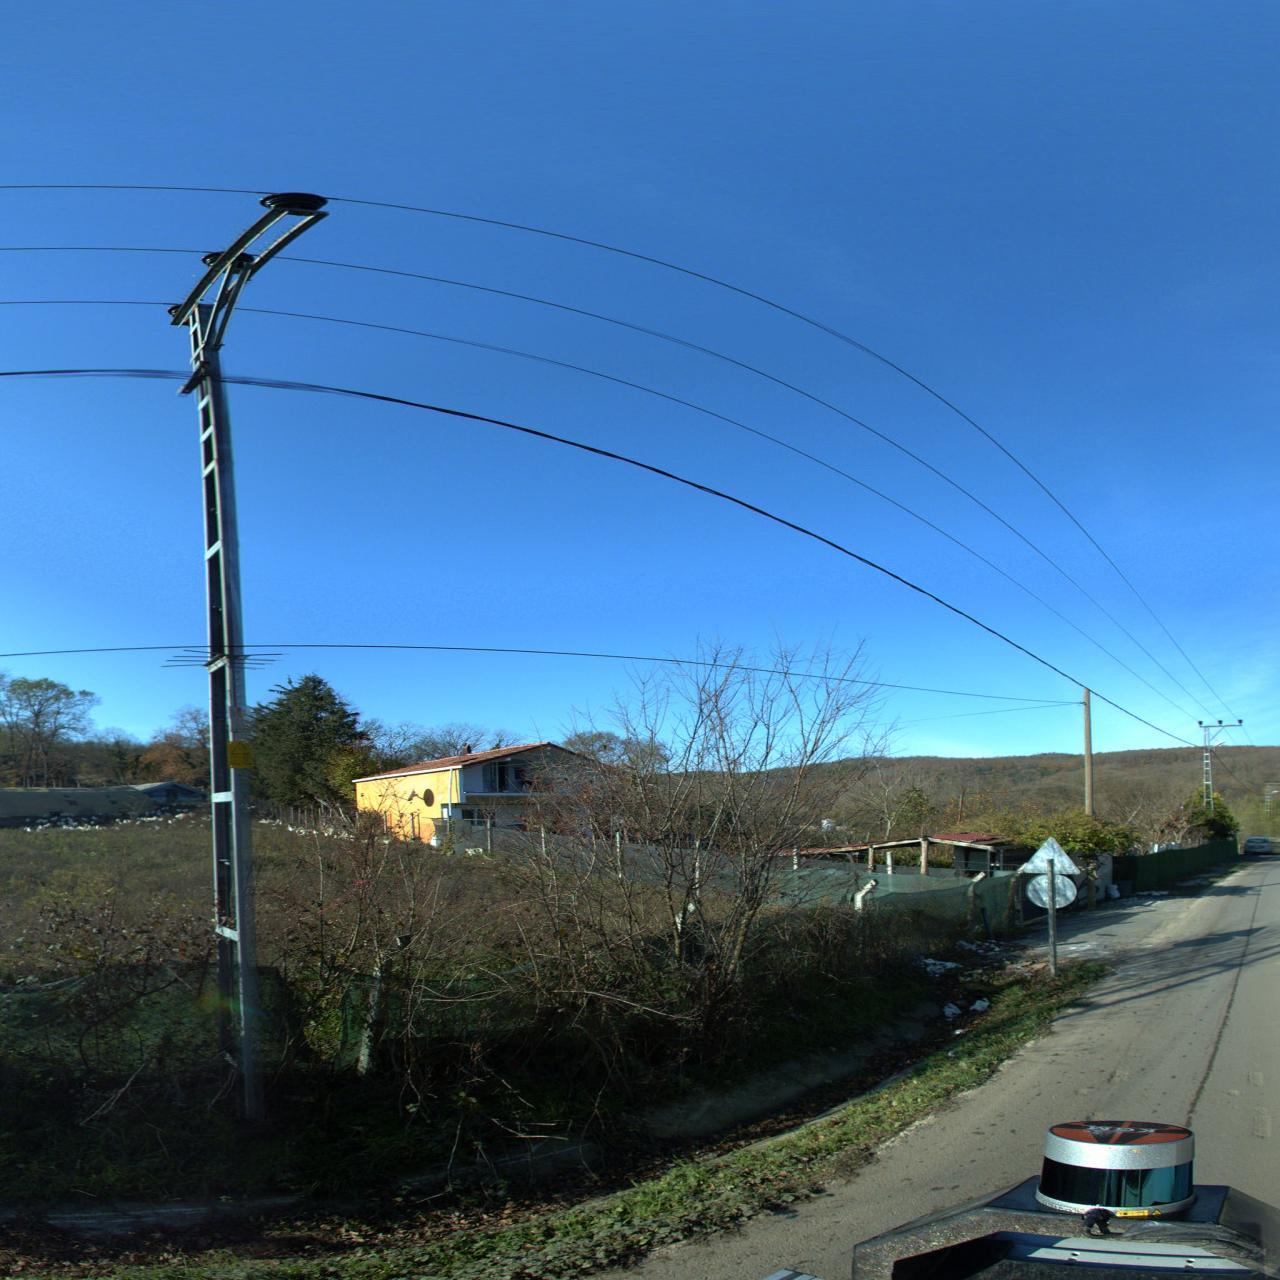Utility Pole Information Plate: (227, 742, 256, 769), (229, 707, 254, 733)
